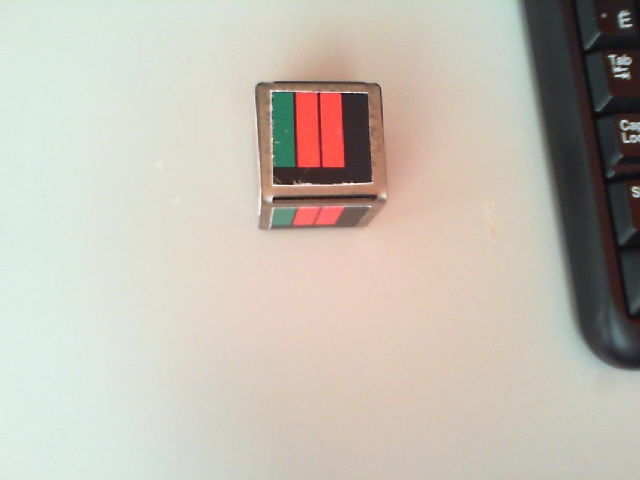square: (271, 90, 372, 185)
